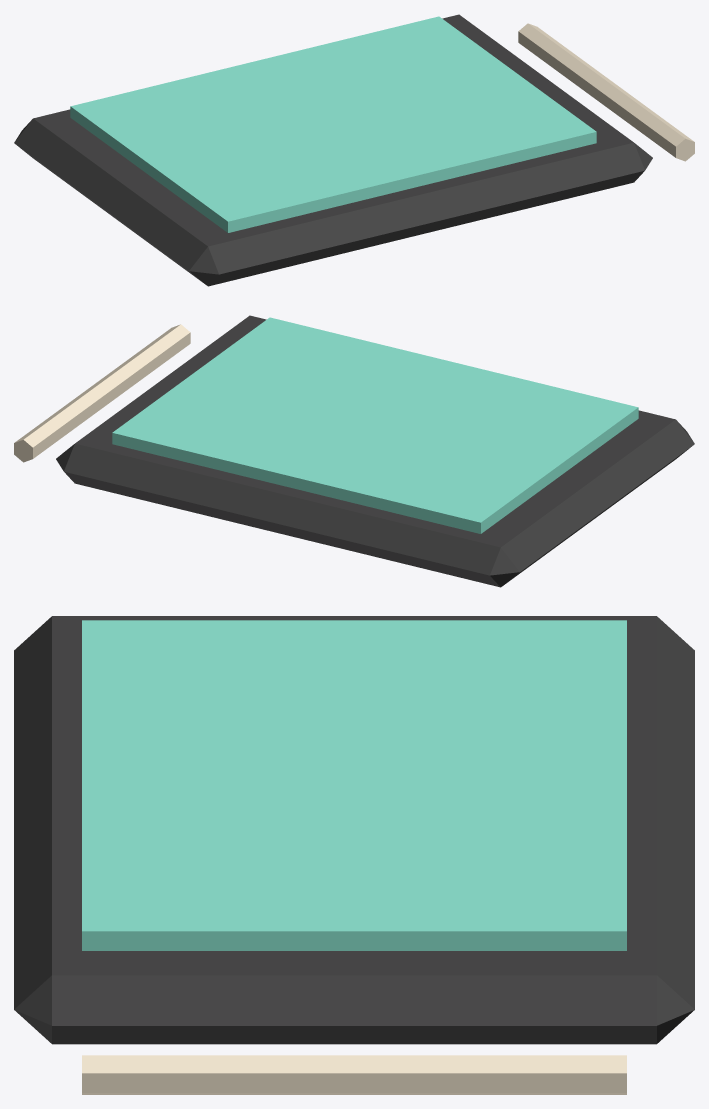
3 views of the same model, one above another, from view 1: azimuth 30°, elevation 25°; view 2: azimuth 150°, elevation 25°; view 3: azimuth 270°, elevation 25° (orthographic). The views are drawn at different scales.
Visible parts, largest first — view 1: Drawing area, Tablet, Pen; view 2: Drawing area, Tablet, Pen; view 3: Drawing area, Tablet, Pen.
Boxes of the visible parts, bbox=[...] form: Drawing area: bbox=[70, 16, 596, 232]; Tablet: bbox=[14, 14, 652, 286]; Pen: bbox=[518, 23, 694, 161]; Drawing area: bbox=[112, 317, 638, 533]; Tablet: bbox=[56, 315, 694, 587]; Pen: bbox=[14, 324, 190, 462]; Drawing area: bbox=[82, 620, 626, 950]; Tablet: bbox=[14, 616, 694, 1044]; Pen: bbox=[82, 1055, 626, 1094].
Size of the model in its own units: 37.69 by 3.6 by 25.
